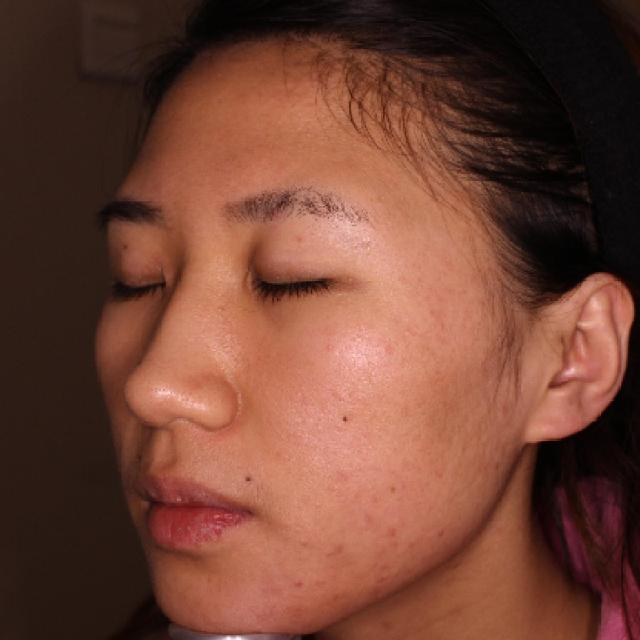Blackheads: (238, 465, 262, 486), (335, 411, 354, 429)
